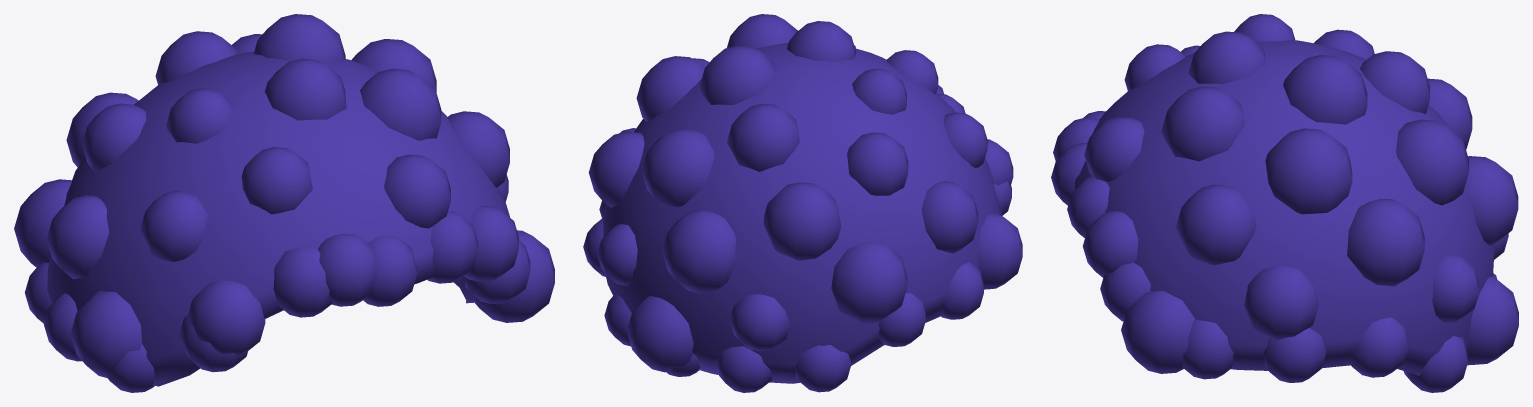
Rendered from hair-curls.glb.
3 renders of one model, left to right at view 1: azimuth 30°, elevation 25°; view 2: azimuth 150°, elevation 25°; view 3: azimuth 270°, elevation 25°, orthographic. The views are drawn at different scales.
Visible parts, largest first — view 1: hair-curls-mesh; view 2: hair-curls-mesh; view 3: hair-curls-mesh.
Part boxes in pixels (bbox=[...]): hair-curls-mesh: bbox=[14, 14, 554, 392]; hair-curls-mesh: bbox=[583, 14, 1022, 392]; hair-curls-mesh: bbox=[1051, 14, 1518, 392].
Bounding box in the file's own units: 2.41 × 1.66 × 2.27.
